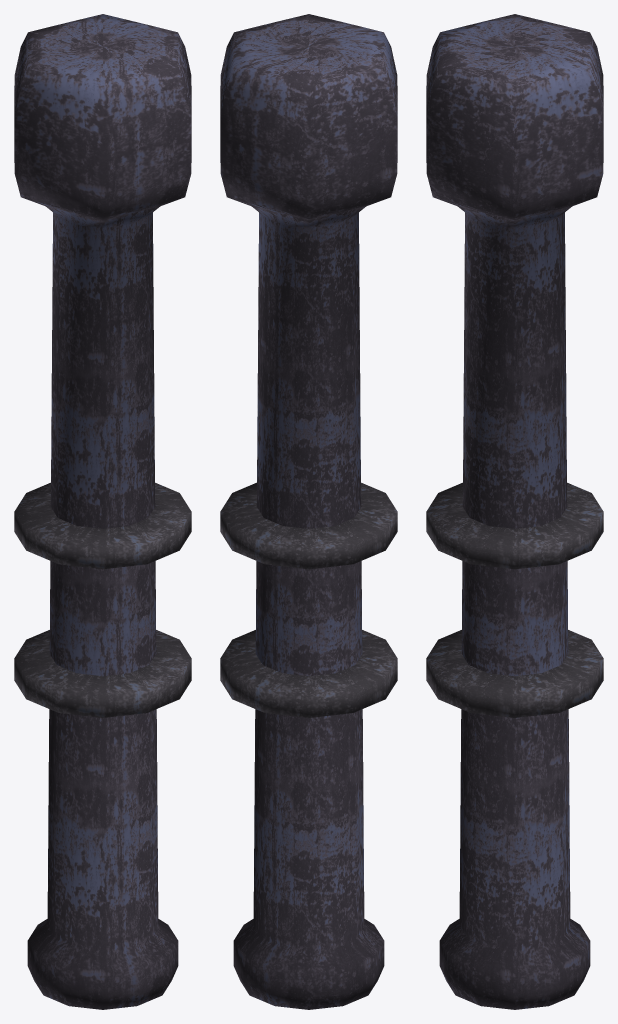
File: mm6_deco_irontorch_unlit_free.glb
3 renders of one model, left to right at view 1: azimuth 30°, elevation 25°; view 2: azimuth 150°, elevation 25°; view 3: azimuth 270°, elevation 25°, orthographic.
Visible parts, largest first — view 1: IronTorchUnlitFree; view 2: IronTorchUnlitFree; view 3: IronTorchUnlitFree.
Part boxes in pixels (bbox=[...]): IronTorchUnlitFree: bbox=[14, 14, 191, 1009]; IronTorchUnlitFree: bbox=[220, 14, 397, 1009]; IronTorchUnlitFree: bbox=[426, 14, 603, 1009].
Size of the model in its own units: 0.2253 by 1.14 by 0.1958.
2 materials, 2 textured.
